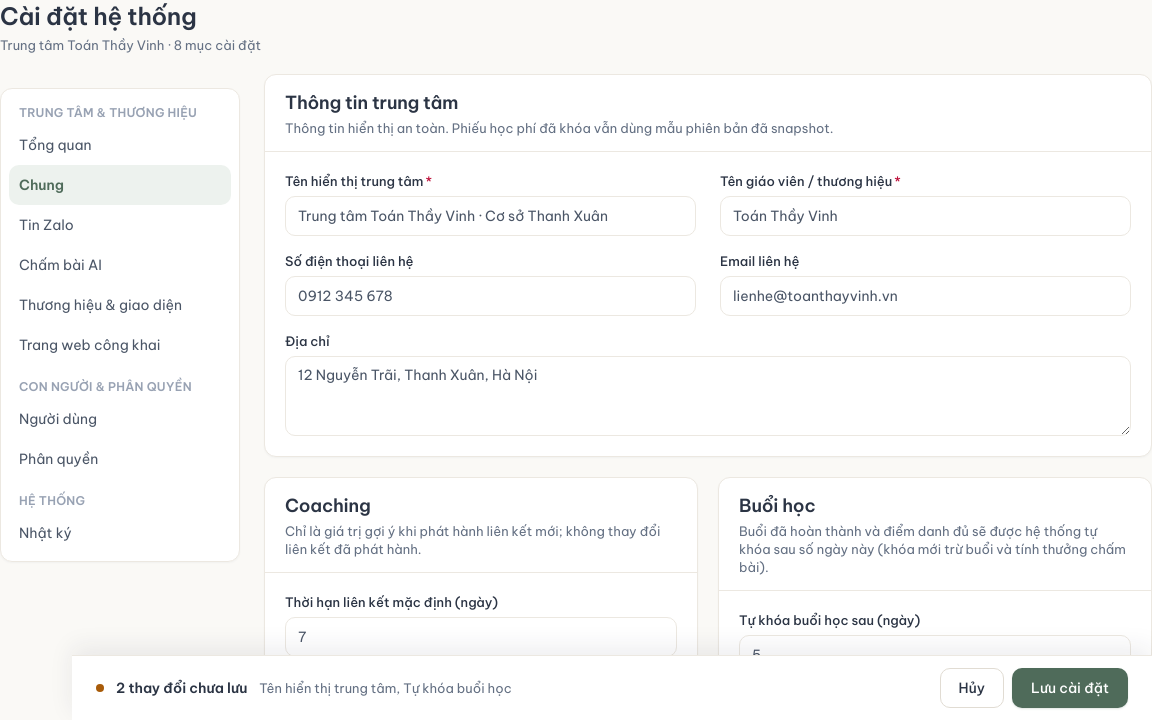
Test: /dev/settings preview › asks before leaving the dirty general section through the table of contents
Click the link "Phân quyền" at (59, 459), box [19,450,98,468]
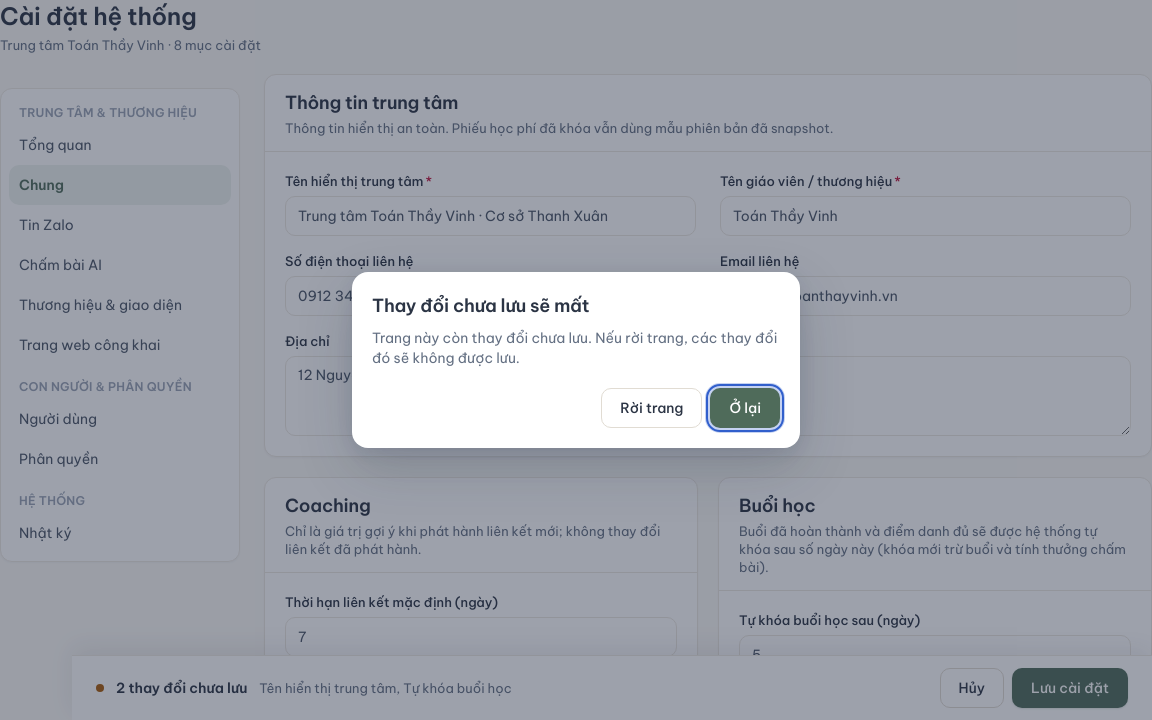
Expected: the dialog "Thay đổi chưa lưu sẽ mất" is shown, [352,272,800,448]
